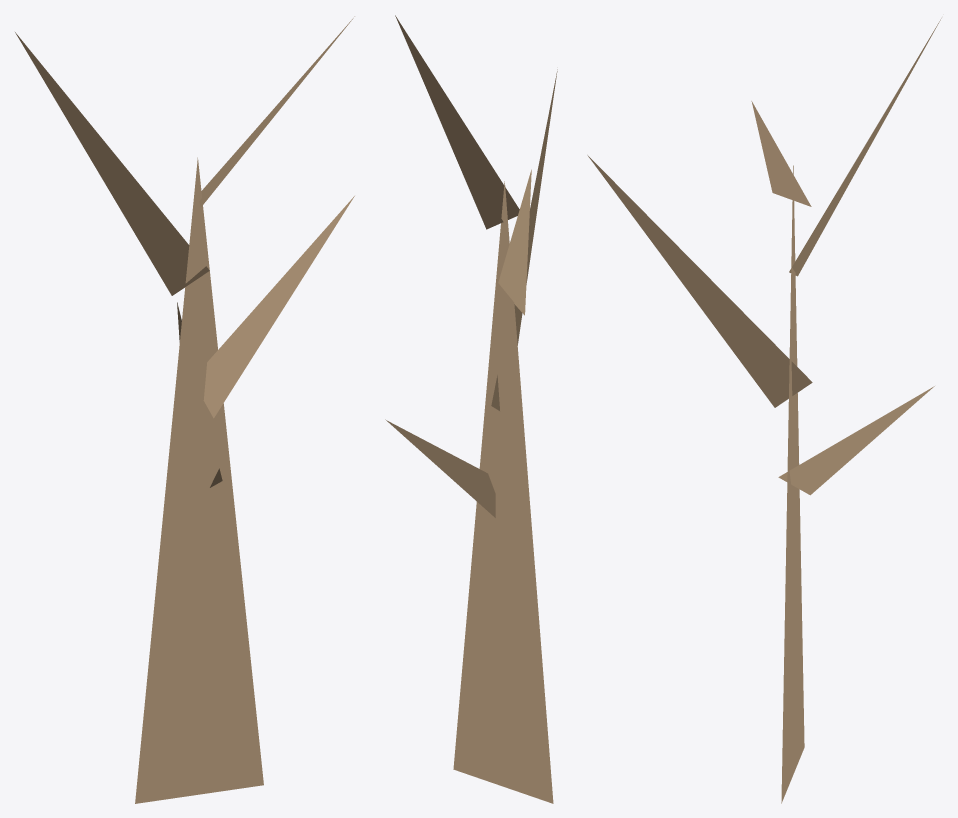
Rendered from prop_tree_desert_1_far.glb.
3 renders of one model, left to right at view 1: azimuth 30°, elevation 25°; view 2: azimuth 150°, elevation 25°; view 3: azimuth 270°, elevation 25°, orthographic. The views are drawn at different scales.
Visible parts, largest first — view 1: Trunk, Branch1, Branch0, Branch2; view 2: Trunk, Branch2, Branch3, Branch1, Branch0; view 3: Branch0, Trunk, Branch3, Branch2, Branch1.
Part boxes in pixels (left/top/right/bottom): Trunk: left=135, top=157, right=263, bottom=803; Branch1: left=15, top=32, right=209, bottom=295; Branch0: left=203, top=196, right=354, bottom=418; Branch2: left=199, top=16, right=354, bottom=207; Trunk: left=453, top=181, right=553, bottom=803; Branch2: left=395, top=15, right=519, bottom=229; Branch3: left=385, top=419, right=495, bottom=517; Branch1: left=498, top=169, right=531, bottom=315; Branch0: left=491, top=69, right=557, bottom=410; Branch0: left=587, top=155, right=812, bottom=407; Trunk: left=781, top=165, right=804, bottom=803; Branch3: left=778, top=386, right=934, bottom=495; Branch2: left=751, top=101, right=811, bottom=206; Branch1: left=789, top=18, right=941, bottom=276.
Size of the model in its own units: 1.36 by 4.07 by 1.78.
